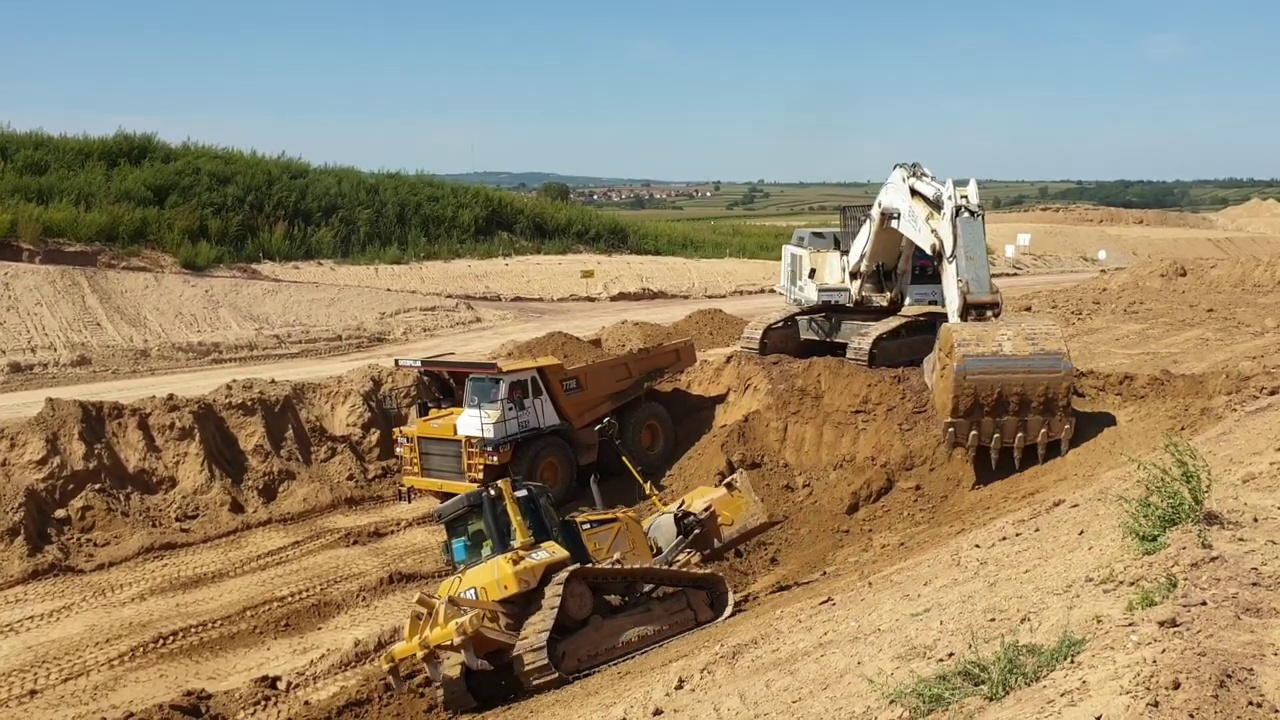bulldozer: (388, 417, 776, 714)
excavator: (739, 155, 1083, 471)
truck: (390, 337, 706, 526)
